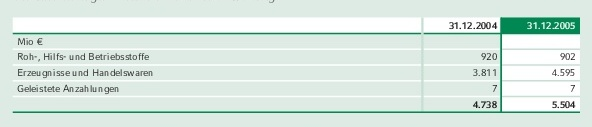table: (0, 0, 592, 127)
